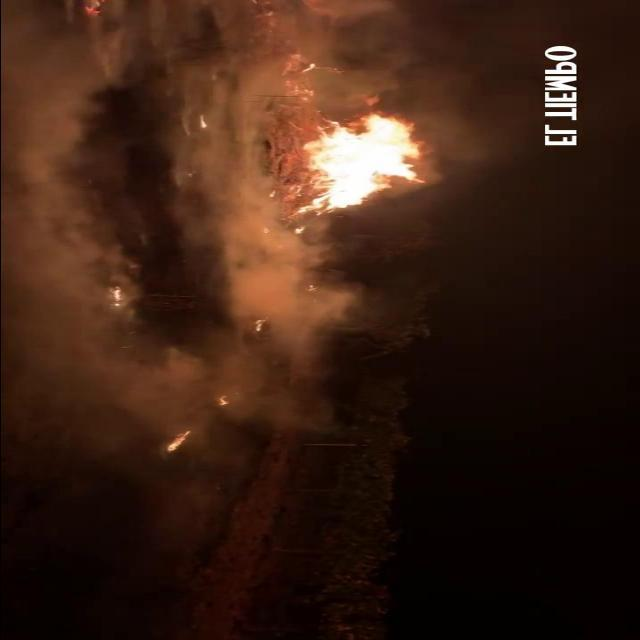Fire: (298, 114, 438, 227), (165, 431, 191, 455), (254, 318, 268, 334), (114, 285, 126, 303), (217, 396, 233, 406), (291, 228, 309, 236)
